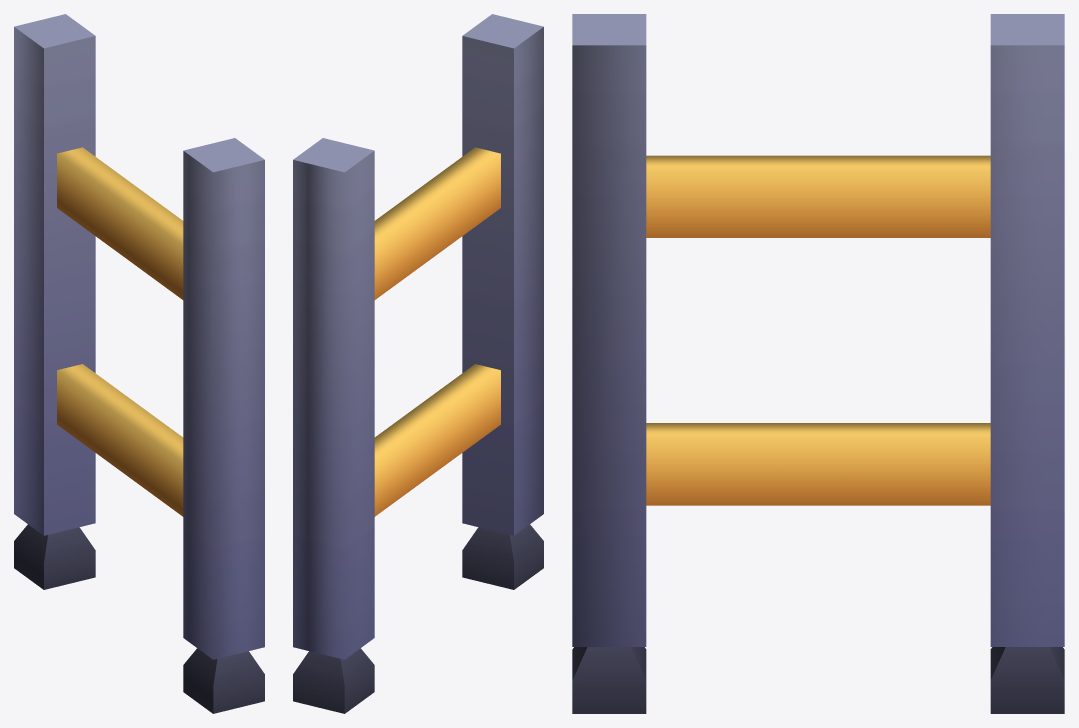
The model's file is kenney-conveyor-structure-yellow-high.glb.
The picture shows the model from 3 angles, left to right: view 1: azimuth 30°, elevation 25°; view 2: azimuth 150°, elevation 25°; view 3: azimuth 270°, elevation 25°; orthographic projection. The views are drawn at different scales.
Parts seen in each view (by area): view 1: structure-yellow-high; view 2: structure-yellow-high; view 3: structure-yellow-high.
Part boxes in pixels (<box>): structure-yellow-high: <box>14,14,264,713</box>; structure-yellow-high: <box>293,14,543,713</box>; structure-yellow-high: <box>572,14,1064,713</box>.
Bounding box in the file's own units: 0.15 × 1.5 × 1.
Materials: 1 (1 with a texture image).
